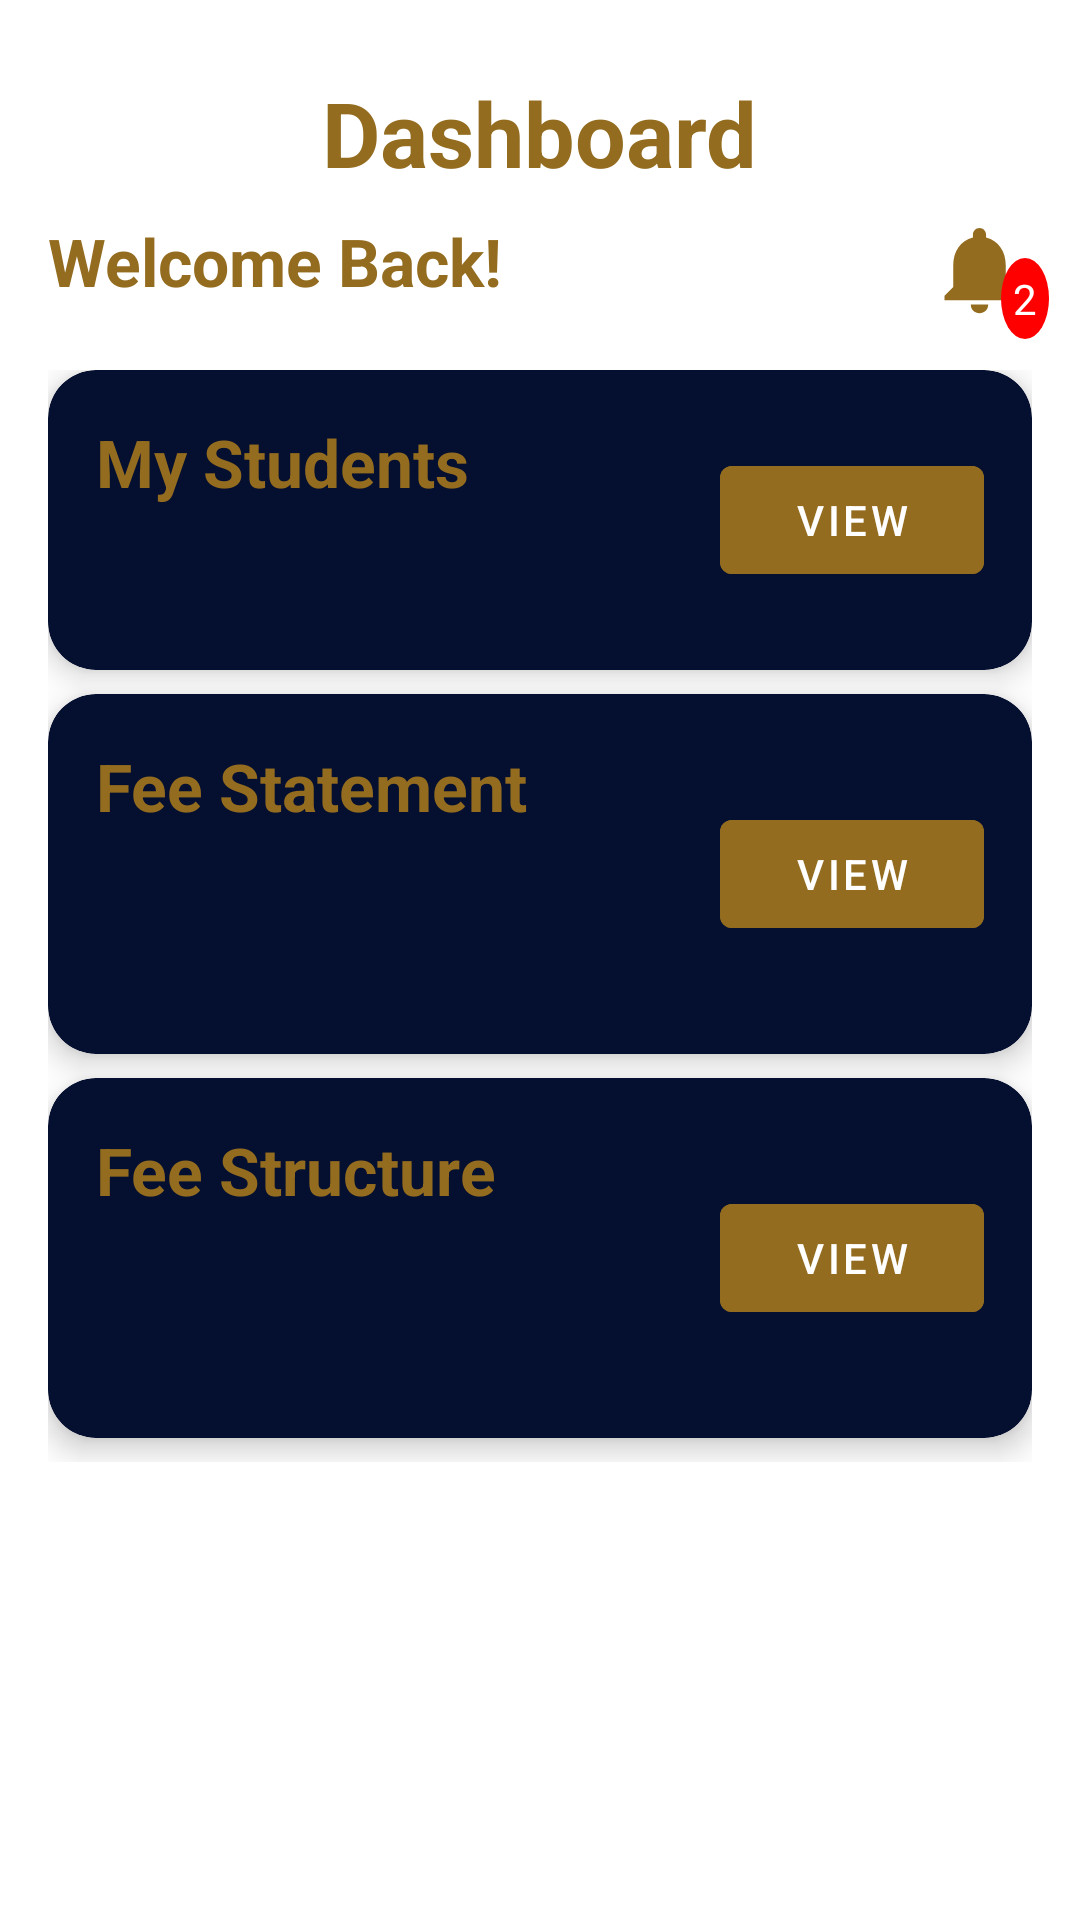

Icons on this 1080px×1920px Android screen, each with the point to tap as (x,y):
Notifications: (988,275)
